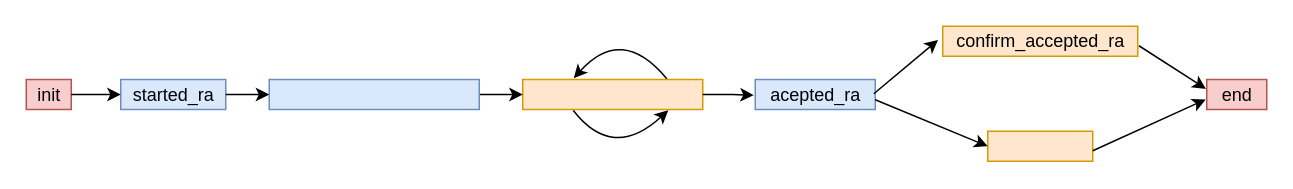
The diagram is 1293 pixels wide and 189 high, and some of its shapes have lost their labels. The box of each missing label's shape, as (x1, y1, x2, y2) in pixels:
confirmation_ra_started: (268, 78, 479, 110)
drafting_agreement: (521, 78, 703, 110)
refused_ra: (986, 130, 1093, 161)
